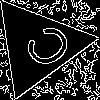C: (13, 21, 76, 78)
